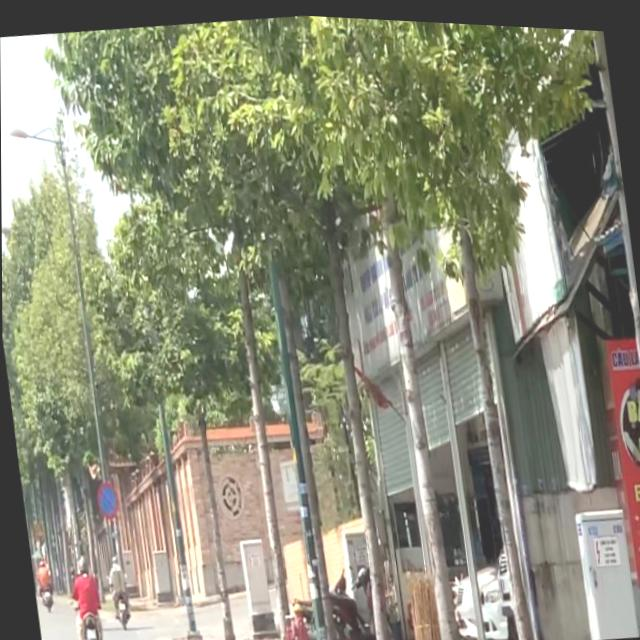Cam do xe: (90, 476, 122, 524)
